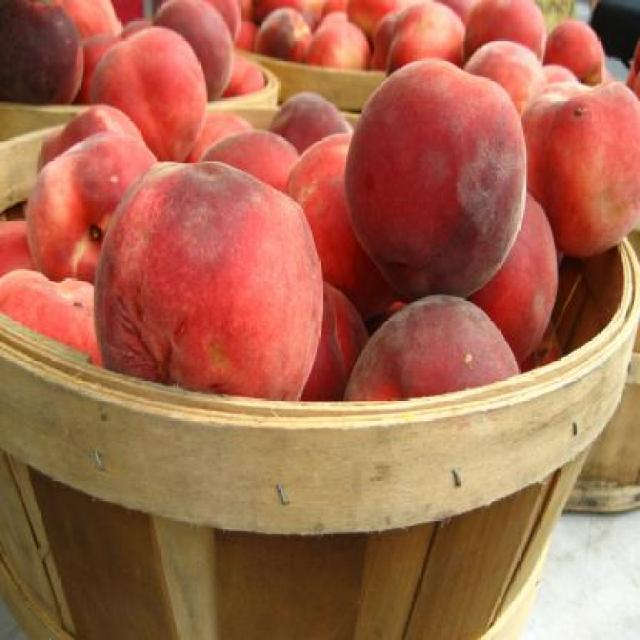Peach: (0, 0, 638, 400), (340, 58, 531, 310)
